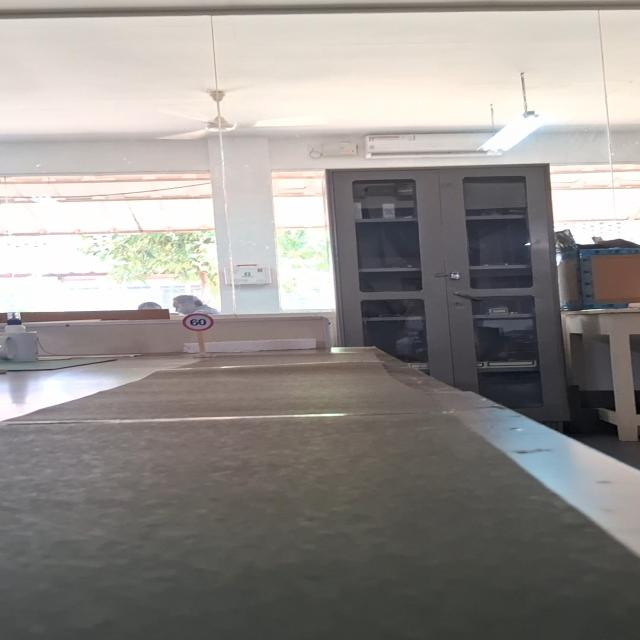Speed60: (181, 313, 215, 331)
